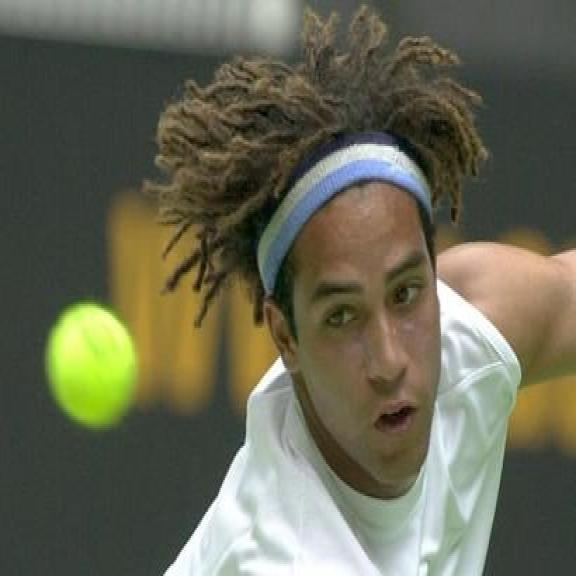face: (259, 180, 444, 494)
